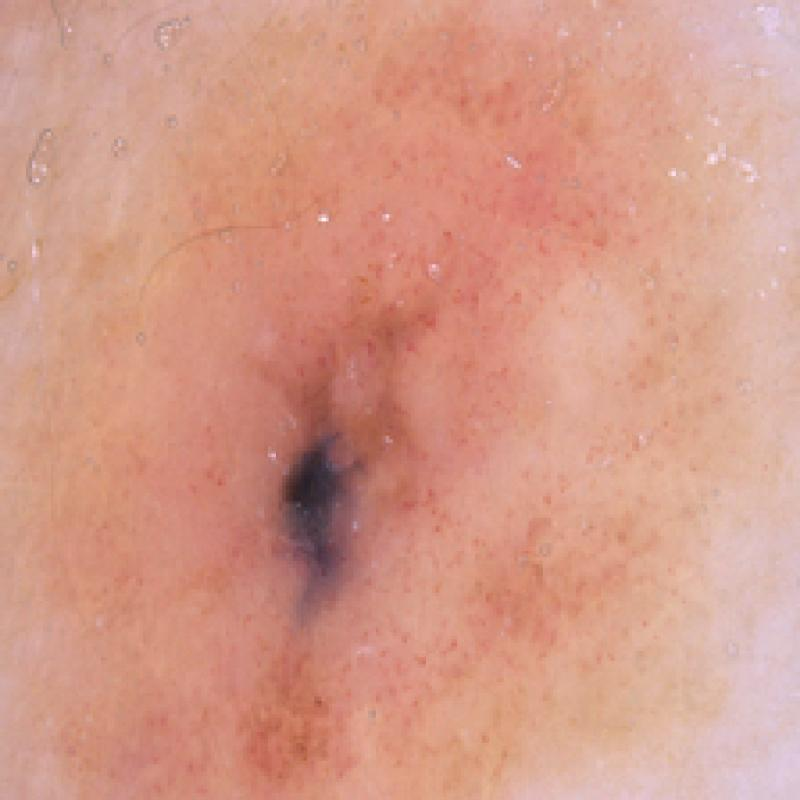benign: (189, 322, 468, 687)
